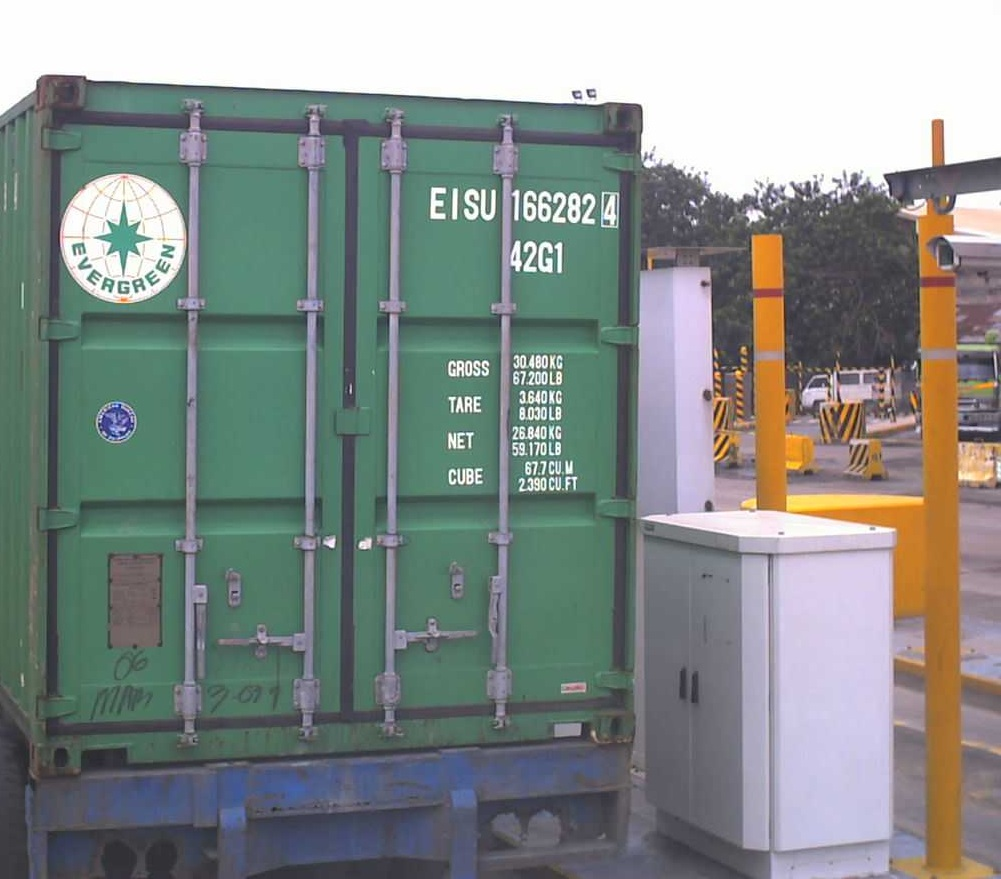container_door: (37, 67, 637, 783)
